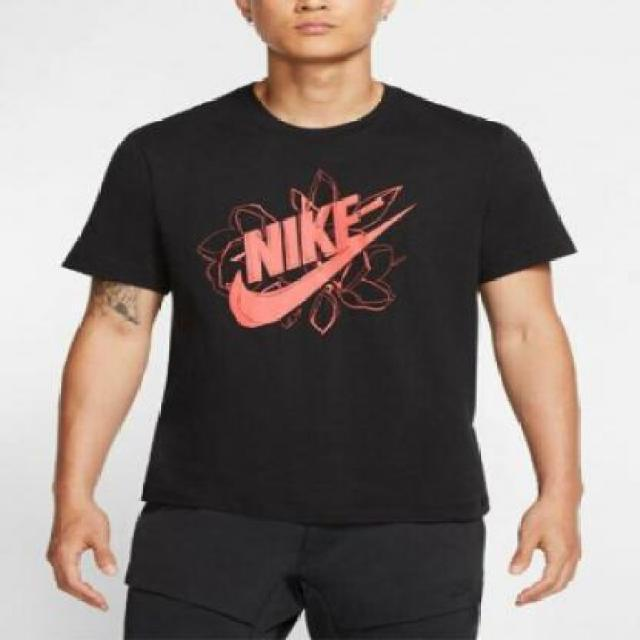Nike: (218, 189, 417, 328)
